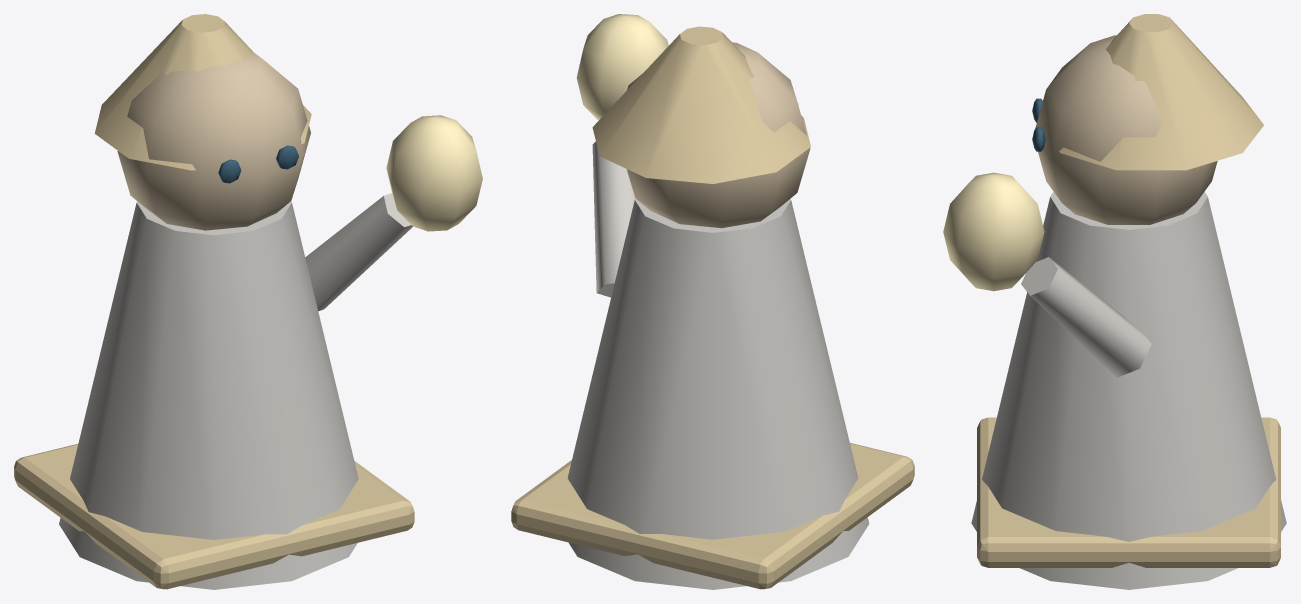
Rendered from keeper.glb.
3 renders of one model, left to right at view 1: azimuth 30°, elevation 25°; view 2: azimuth 150°, elevation 25°; view 3: azimuth 270°, elevation 25°, orthographic.
Parts seen in each view (by area): view 1: keeper_Palette, keeper_Glow; view 2: keeper_Palette, keeper_Glow; view 3: keeper_Palette, keeper_Glow.
Boxes of the visible parts, x1,y1,x2,y2 form: keeper_Palette: (14, 14, 414, 589); keeper_Glow: (386, 115, 482, 231); keeper_Palette: (511, 26, 914, 589); keeper_Glow: (576, 14, 668, 120); keeper_Palette: (971, 14, 1286, 589); keeper_Glow: (943, 172, 1044, 291).
Bounding box in the file's own units: 0.345 × 0.49 × 0.305.
